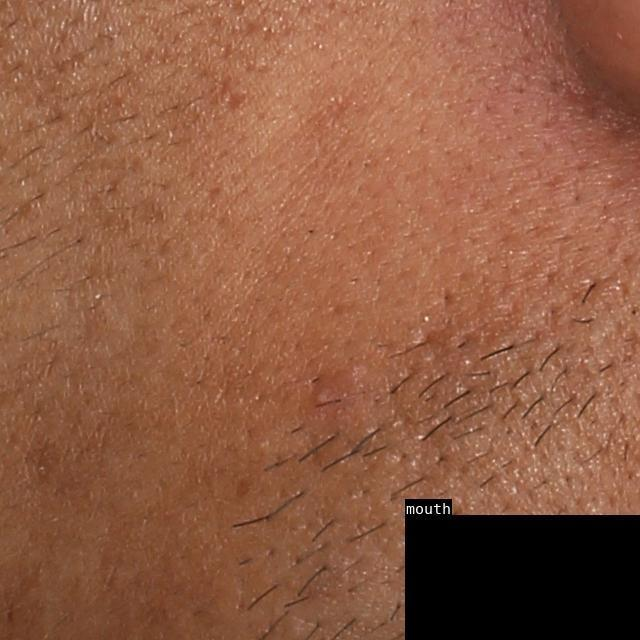atrophic_scar: (223, 87, 249, 112)
